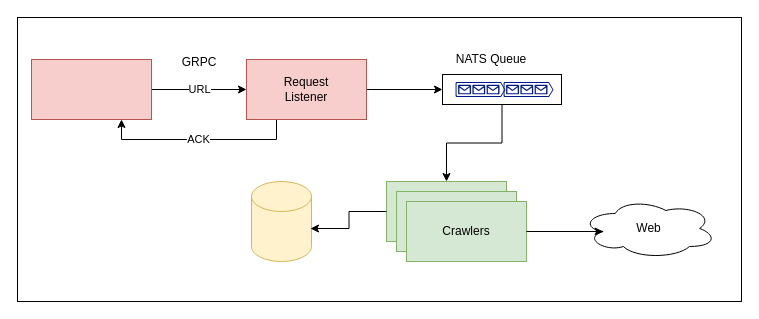
Image size: 759x319. Some labels were removed from this diagram. The shapes that lost their labels are listed below. From the top down, each one's centre as x and y in pixels, then its label:
At [91,89]: "Reader Client".
At [281,221]: "DB".
